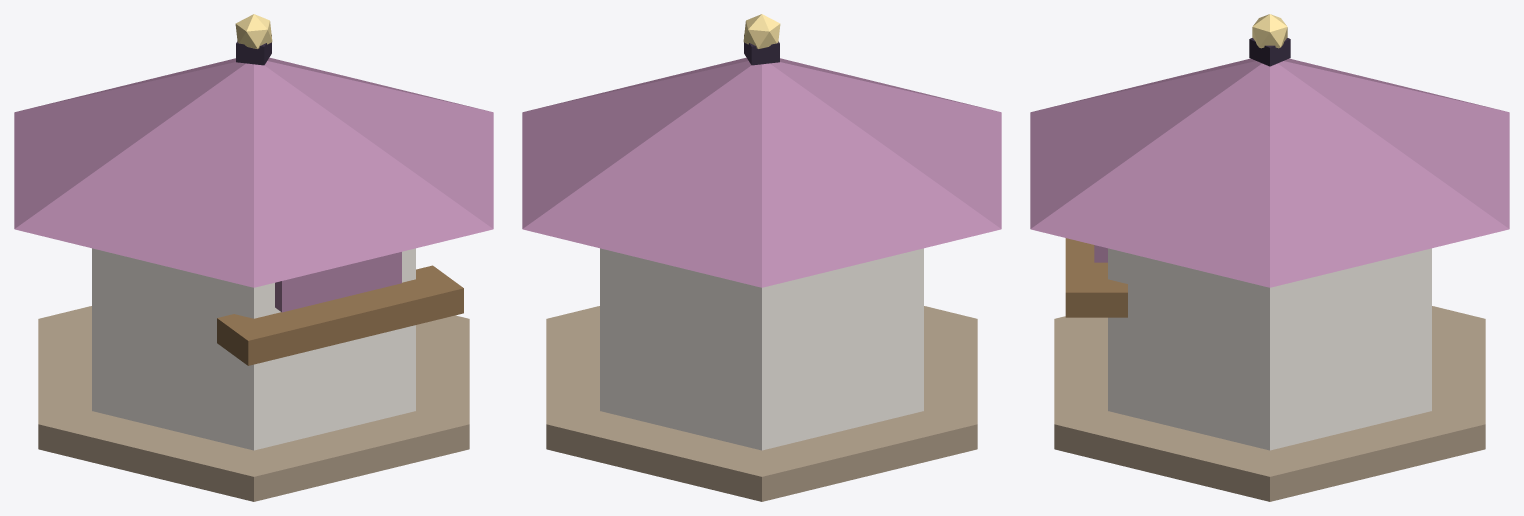
File: city-landmark-s1.glb
The picture shows the model from 3 angles, left to right: view 1: azimuth 30°, elevation 25°; view 2: azimuth 150°, elevation 25°; view 3: azimuth 270°, elevation 25°; orthographic projection.
Visible parts, largest first — view 1: city-landmark-s1; view 2: city-landmark-s1; view 3: city-landmark-s1.
Boxes of the visible parts, x1=… form: city-landmark-s1: x1=14, y1=14, x2=493, y2=501; city-landmark-s1: x1=522, y1=14, x2=1001, y2=501; city-landmark-s1: x1=1030, y1=14, x2=1509, y2=501.
Bounding box in the file's own units: 0.8 × 0.61 × 0.6928.
